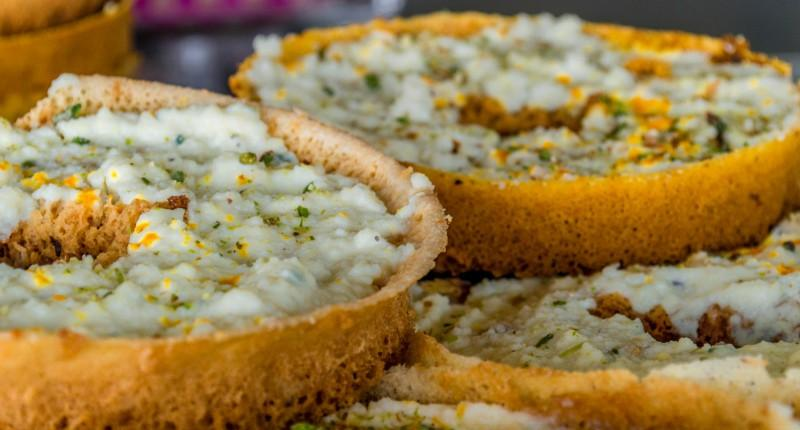Ghevar: (0, 70, 450, 430), (226, 9, 800, 270)
